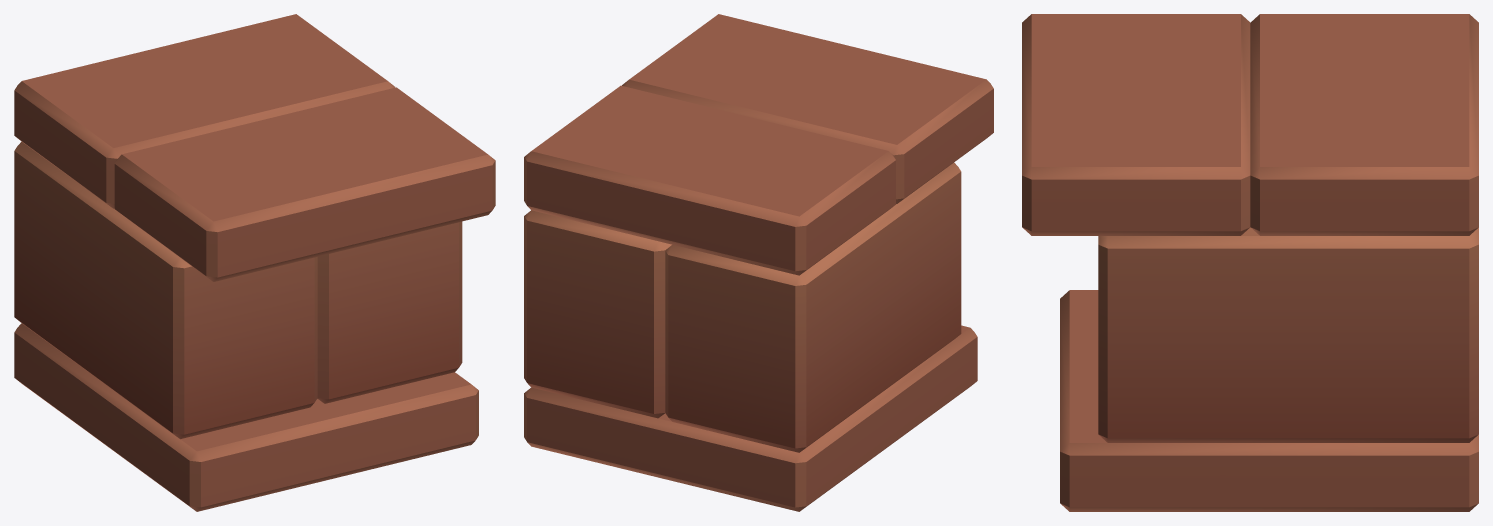
Rendered from bar_straight_A_short.glb.
3 renders of one model, left to right at view 1: azimuth 30°, elevation 25°; view 2: azimuth 150°, elevation 25°; view 3: azimuth 270°, elevation 25°, orthographic. The views are drawn at different scales.
Visible parts, largest first — view 1: bar_straight_A_short; view 2: bar_straight_A_short; view 3: bar_straight_A_short.
Boxes of the visible parts, <box> form: bar_straight_A_short: <box>14,14,495,511</box>; bar_straight_A_short: <box>524,14,993,511</box>; bar_straight_A_short: <box>1022,14,1478,511</box>.
Bounding box in the file's own units: 1 × 1 × 1.2.
Materials: 1 (1 with a texture image).
